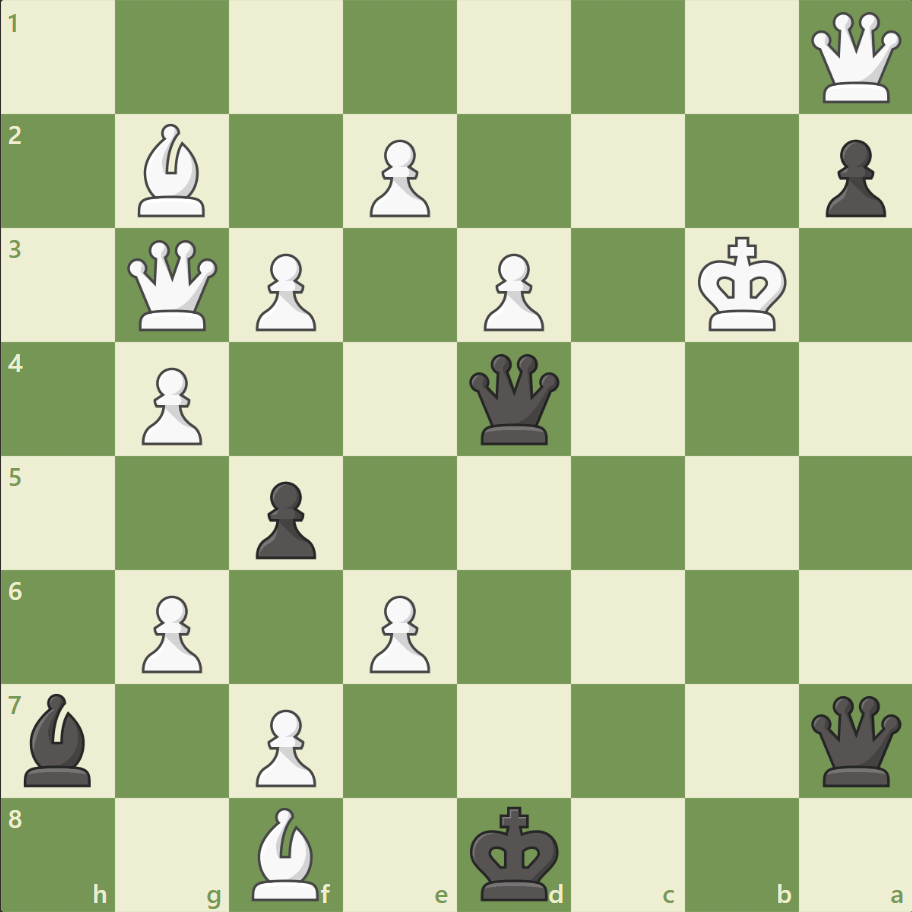B: (244, 801, 328, 904), (131, 120, 215, 222)
K: (692, 231, 792, 339)
P: (247, 700, 322, 791), (133, 586, 208, 677), (133, 359, 208, 450), (474, 246, 549, 337), (247, 246, 322, 337), (361, 586, 435, 677), (361, 132, 435, 223)
Q: (124, 236, 223, 335), (805, 9, 904, 108)
b: (17, 687, 101, 790)
k: (465, 798, 565, 906)
p: (247, 473, 322, 564), (815, 132, 889, 223)
q: (464, 349, 563, 449), (805, 690, 904, 789)
